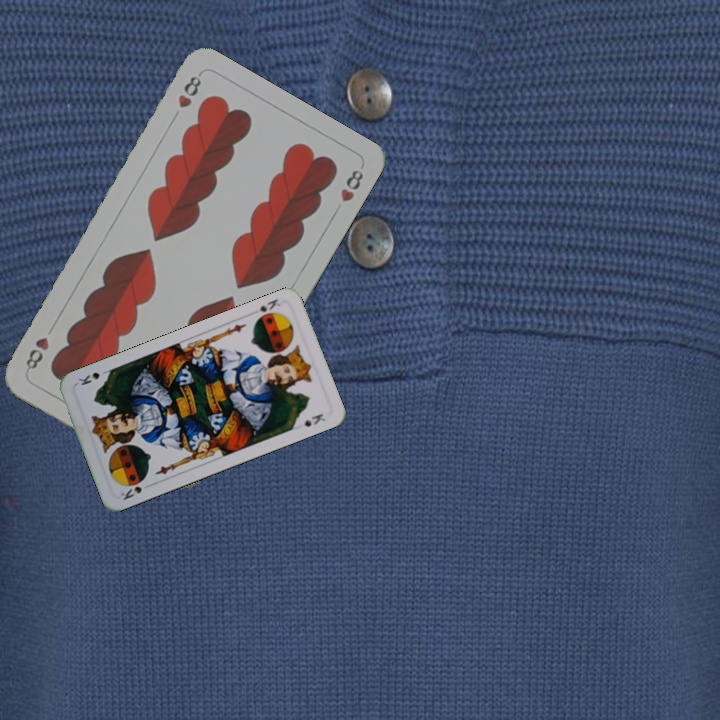H8: (173, 69, 204, 111)
SK: (116, 479, 155, 503), (255, 295, 283, 315)
